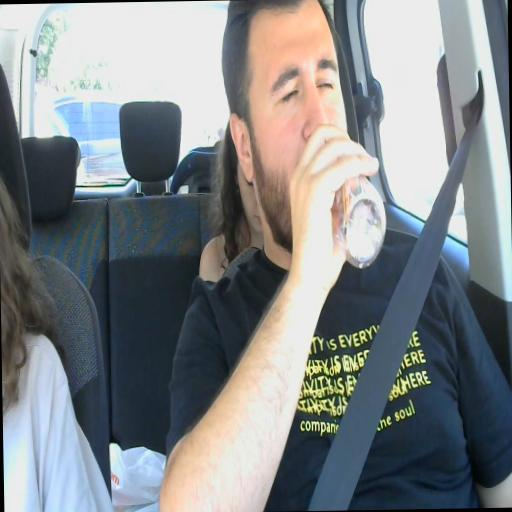Drinking: (229, 3, 387, 270)
